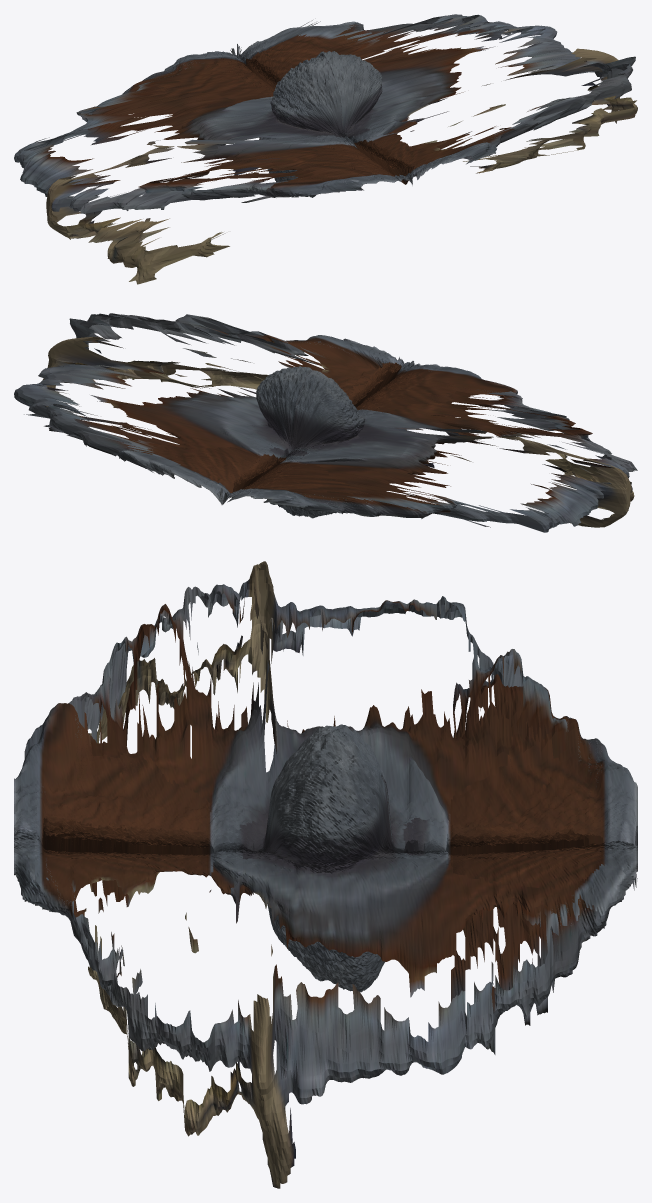
3 views of the same model, one above another, from view 1: azimuth 30°, elevation 25°; view 2: azimuth 150°, elevation 25°; view 3: azimuth 270°, elevation 25° (orthographic). The views are drawn at different scales.
Visible parts, largest first — view 1: geometry_0; view 2: geometry_0; view 3: geometry_0.
Part boxes in pixels (x1,y1,x2,y2): geometry_0: (14, 14, 637, 284); geometry_0: (14, 313, 637, 532); geometry_0: (14, 561, 637, 1188).
Bounding box in the file's own units: 1.95 × 0.4626 × 1.04.
1 material, 1 textured.
